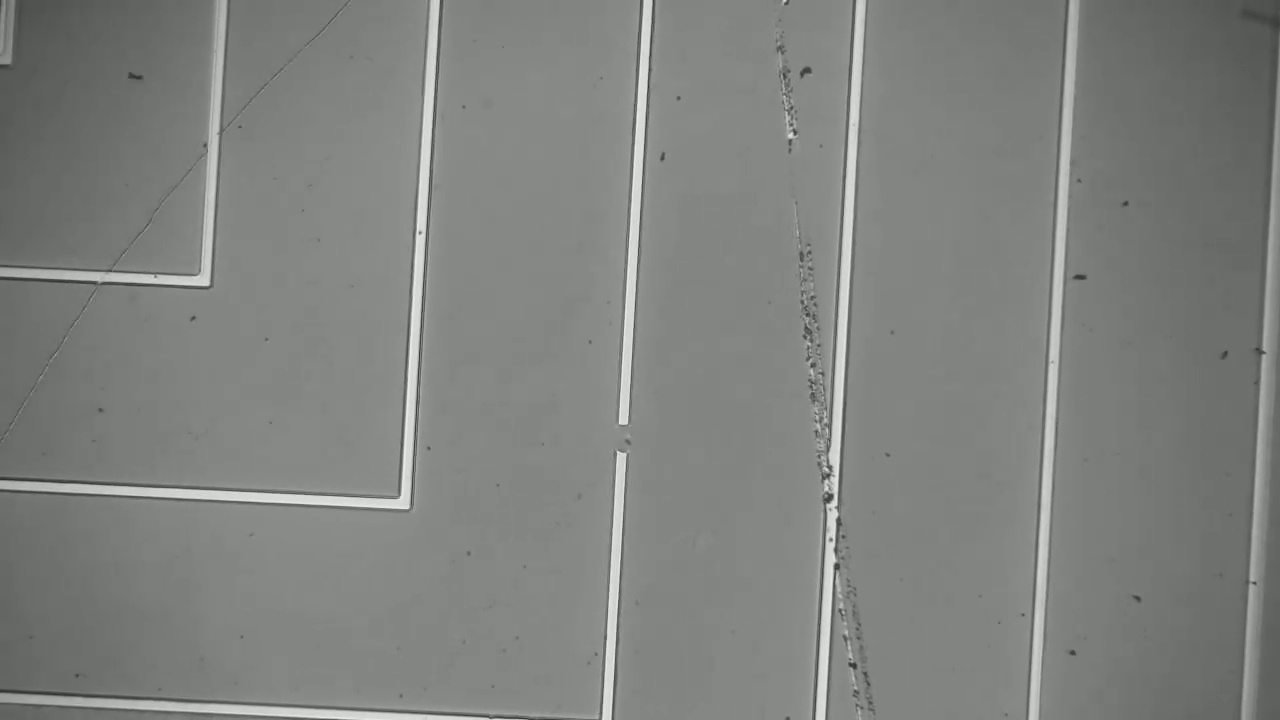open: (590, 394, 647, 470)
scratch: (5, 12, 340, 433), (758, 7, 873, 707)
